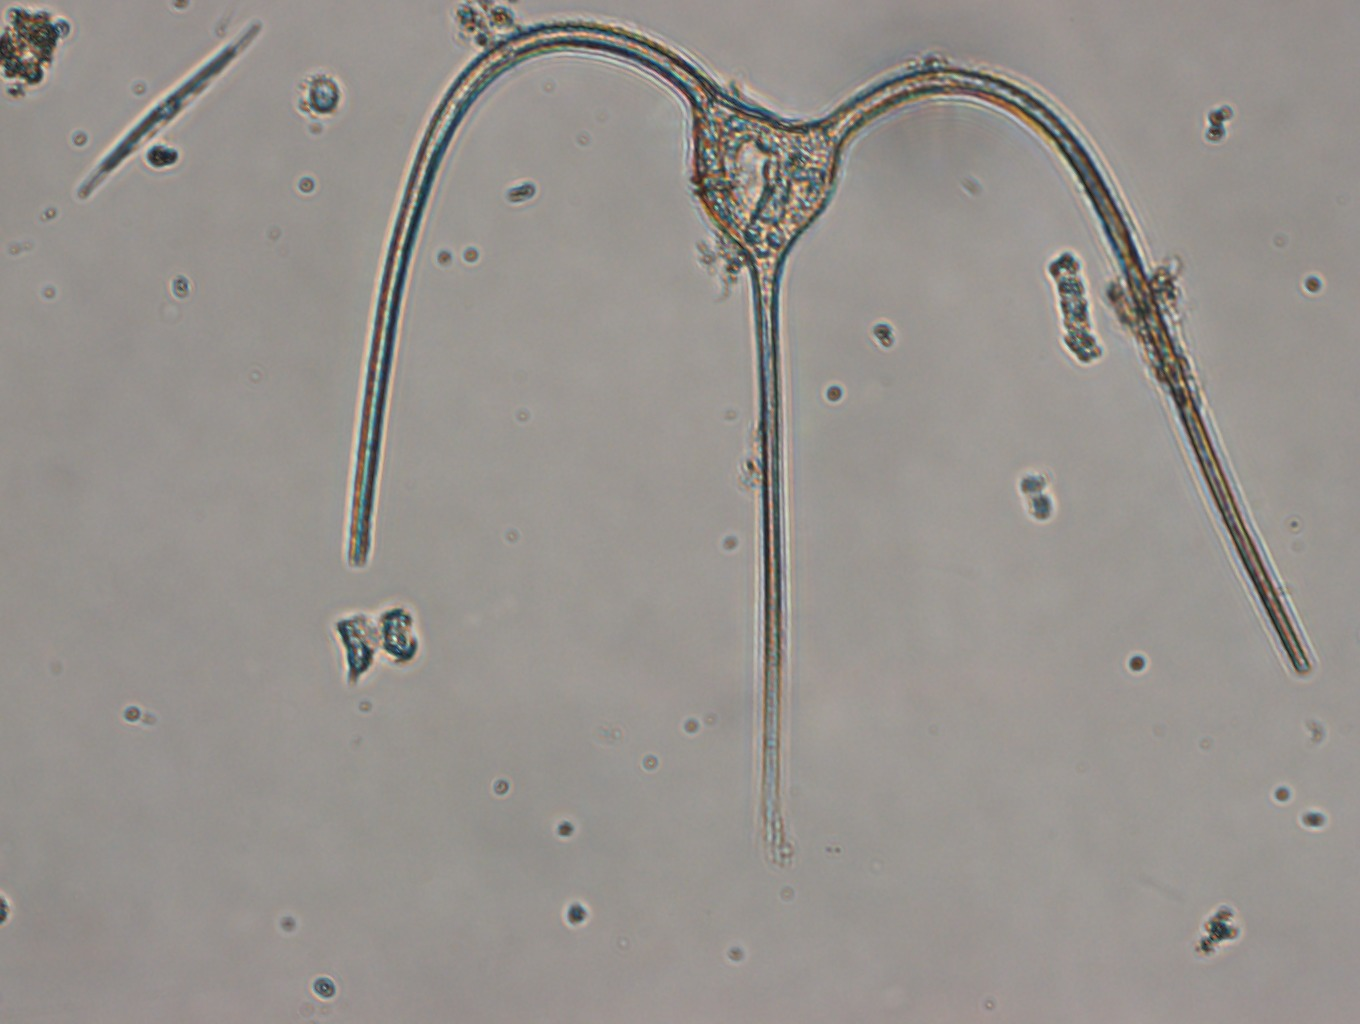ceratium trichoceros: (342, 24, 1317, 826)
